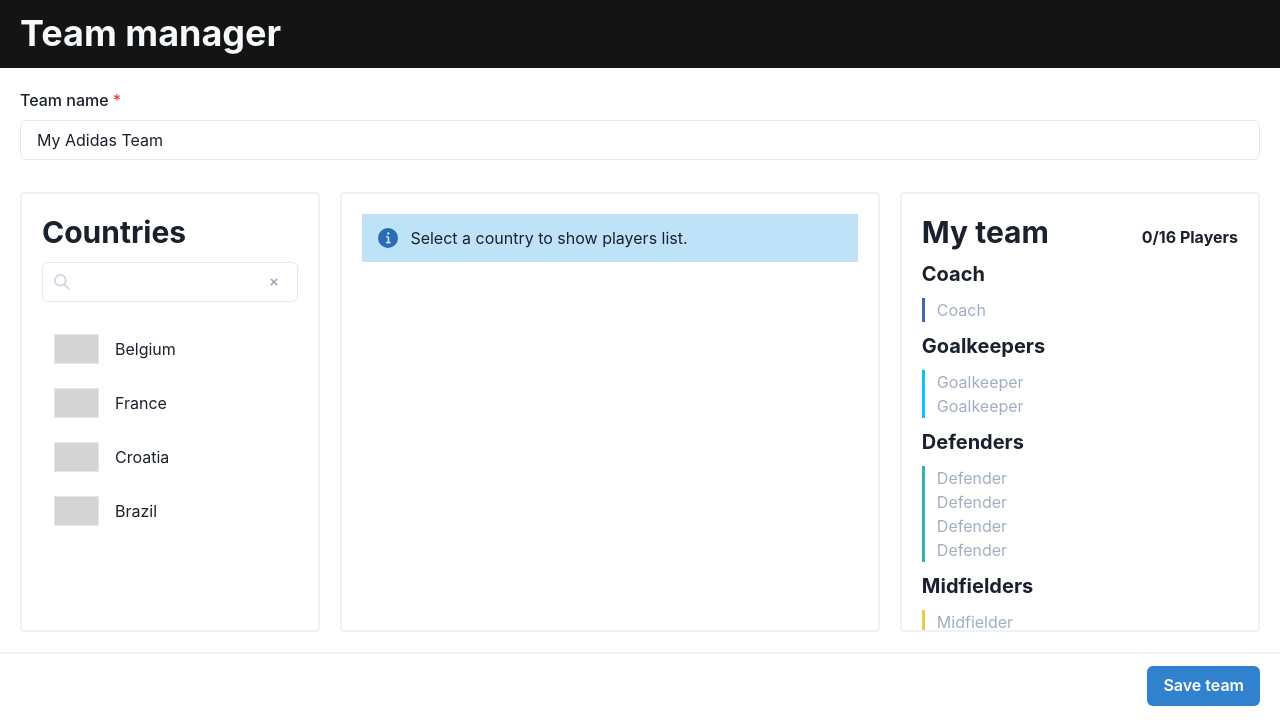
Test case: <Manager /> › given countries request is successful, should be able to filter countries
The width and height of the screenshot is (1280, 720).
Type "RA" into the field named "Search countries." at (170, 282), box [42,262,298,302]
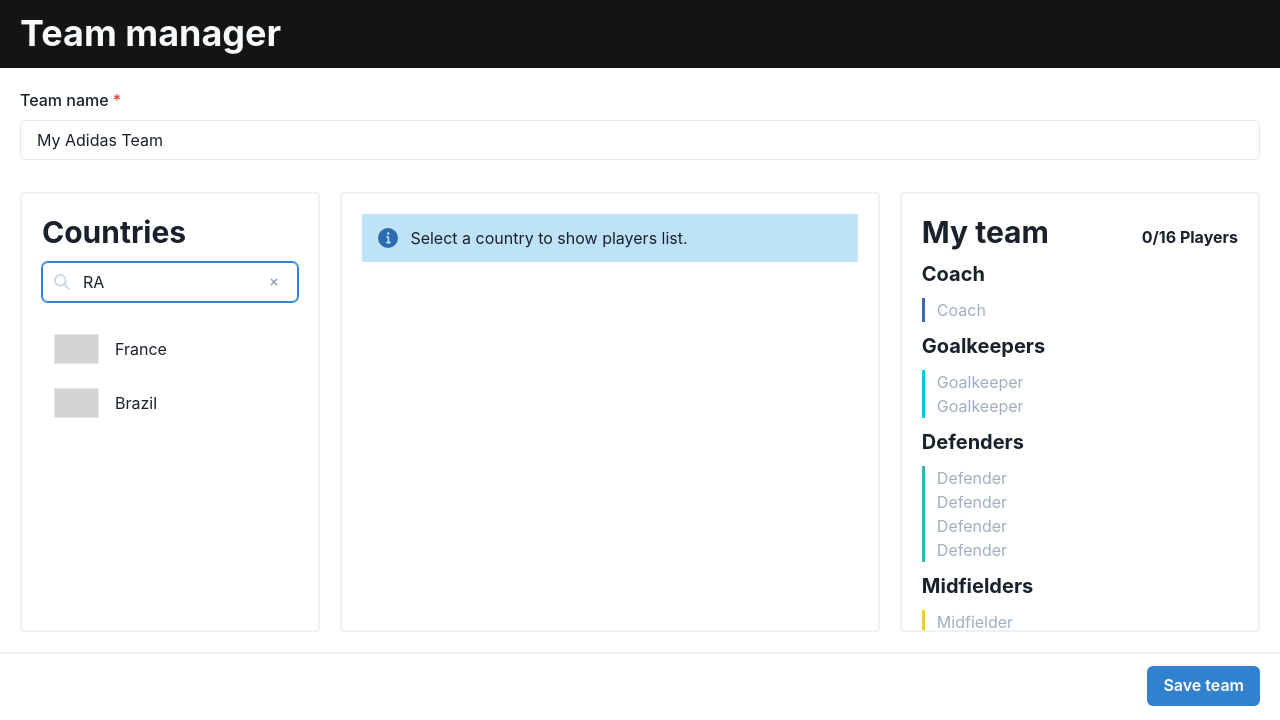
Result: the number of links is 2 at [54,334,167,364]; [54,388,157,418]
Click the button named "Clear country search." at (274, 282), box [255,268,293,296]
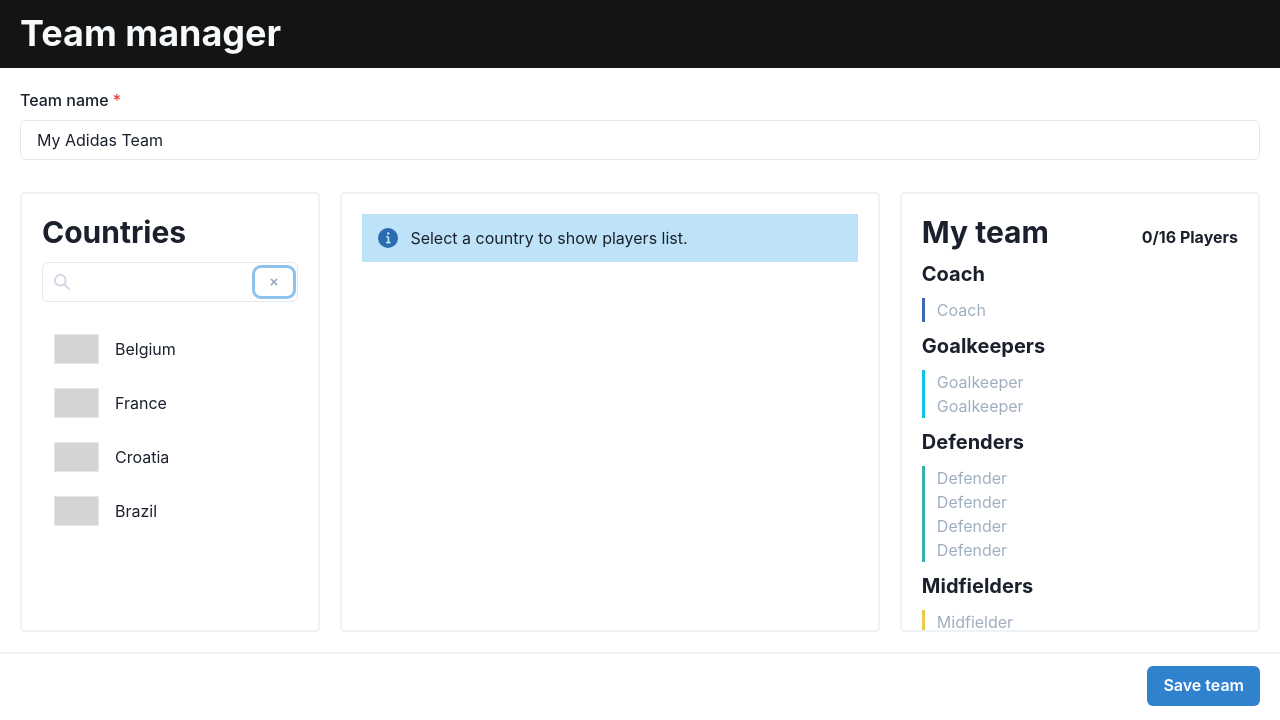
Result: the number of links is 4 at [54,334,176,364]; [54,388,167,418]; [54,442,169,472]; [54,496,157,526]
Type "DOES_NOT_EXIST" into the field named "Search countries." at (170, 282), box [42,262,298,302]
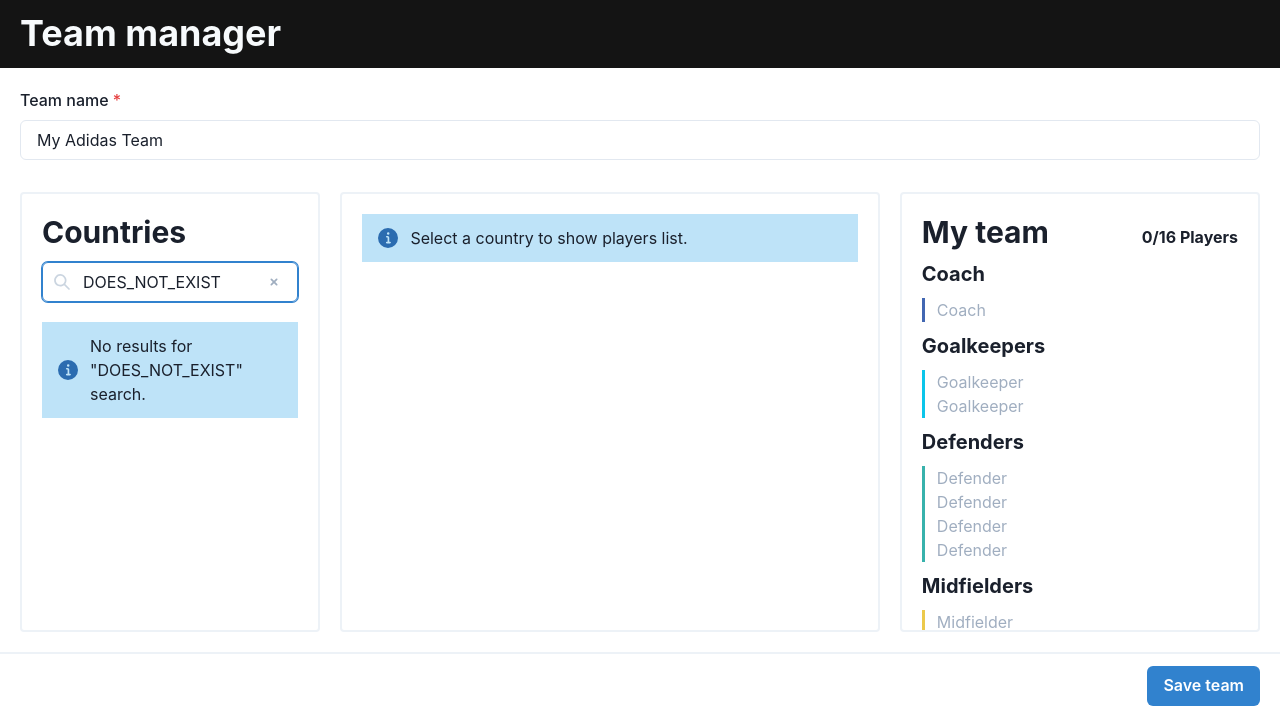
Result: the text "No results for \"DOES_NOT_EXIST\" search." is shown at [90,336,243,404]
